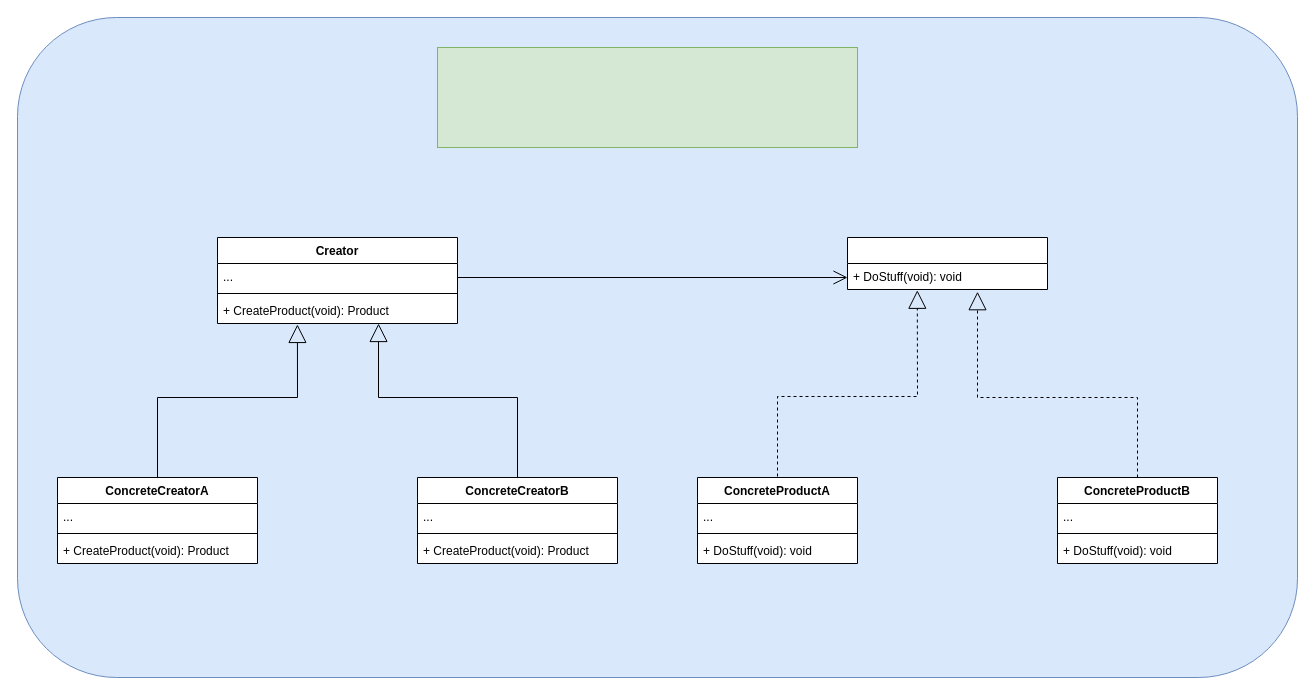
The diagram is 1315 pixels wide and 695 high, and some of its shapes have lost their labels. Each missing label, with the box of its shape:
FACTORY METHOD: (436, 46, 858, 148)
IProduct: (846, 236, 1048, 290)
